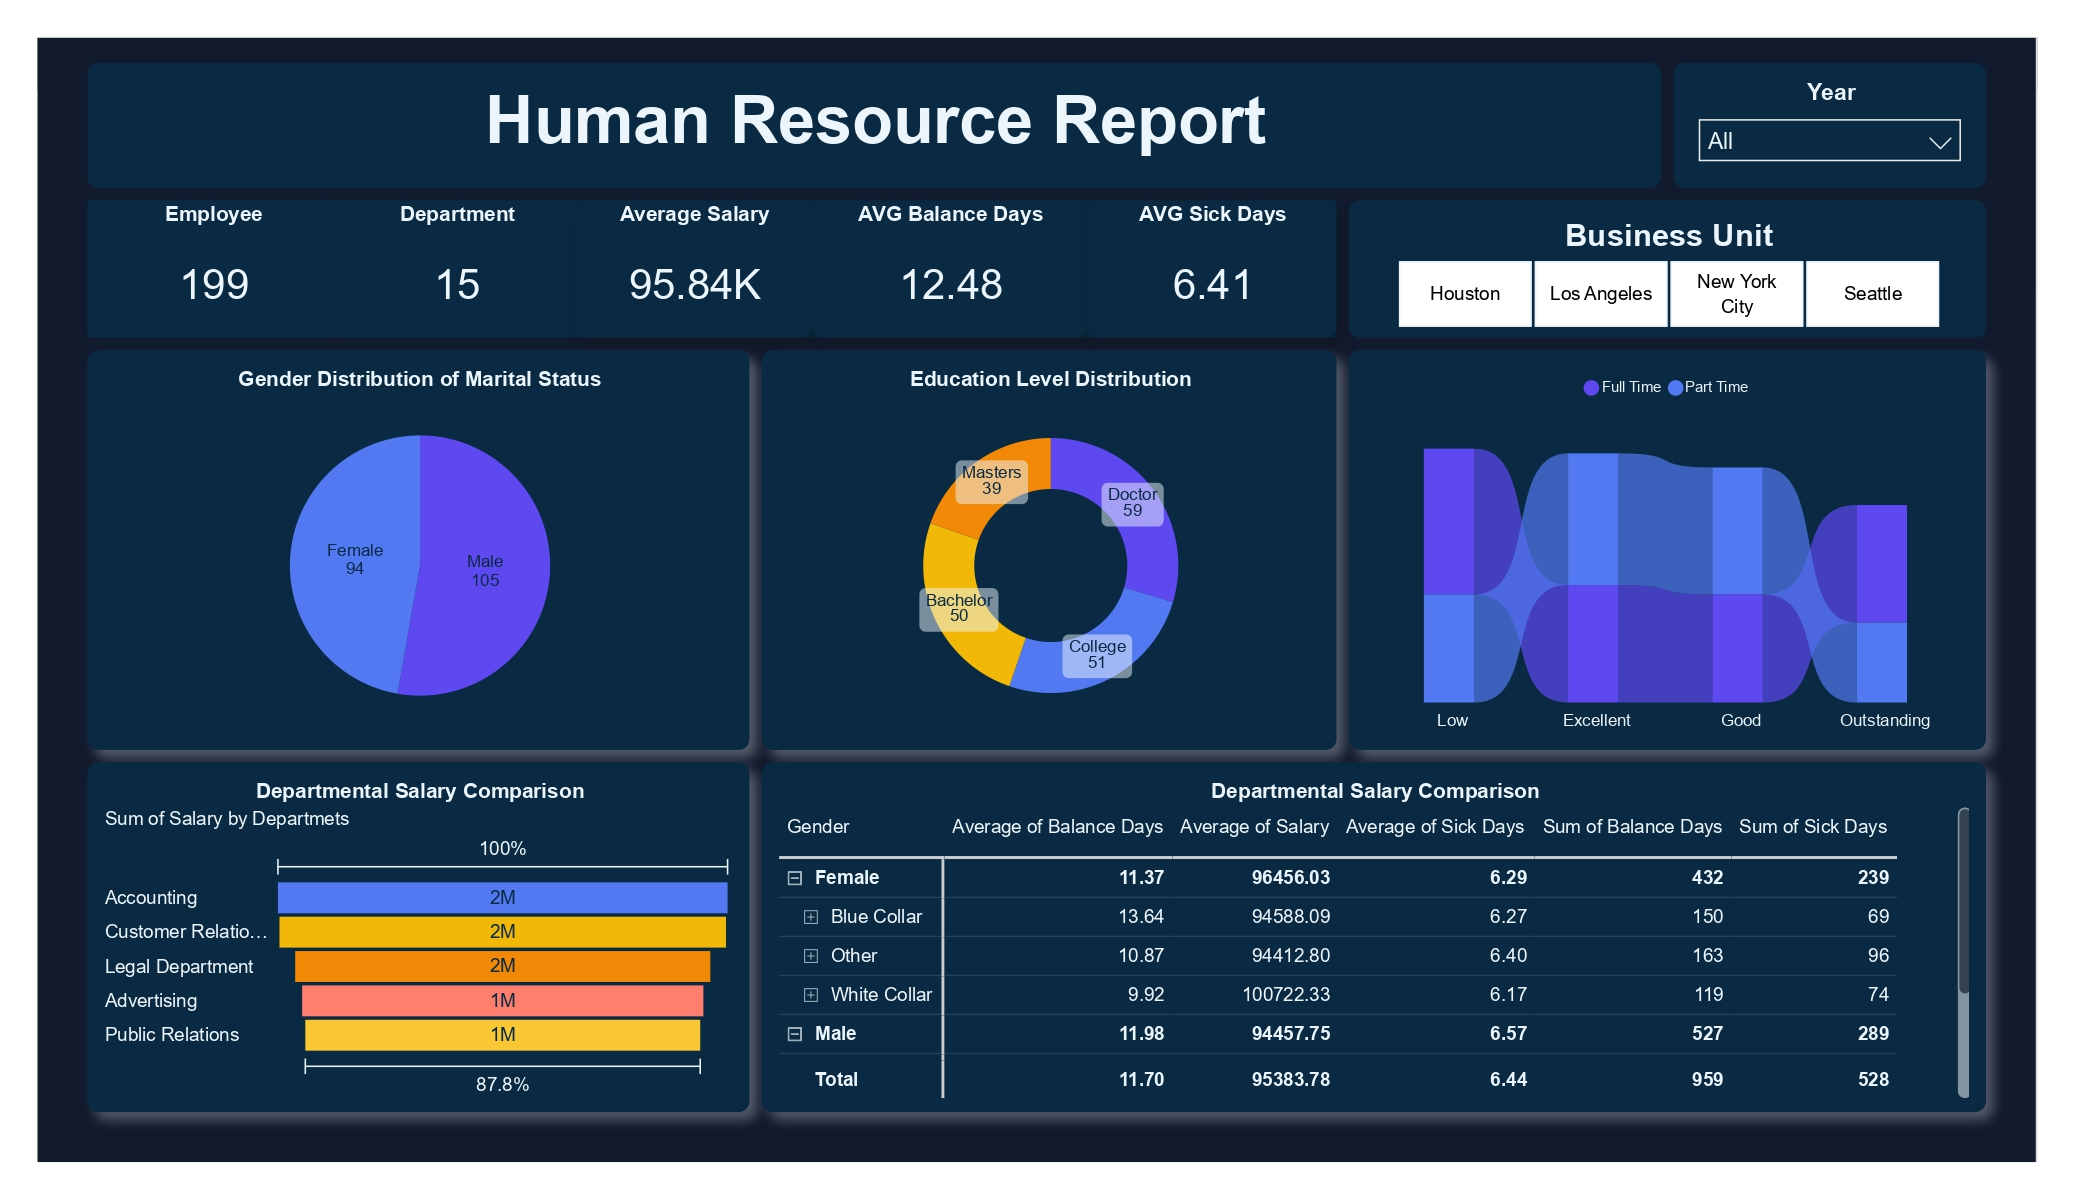

What the dashboard file says about the page in this screenshot:
{"tool":"powerbi","page":{"name":"HR Domain","canvas":[1280,720],"ordinal":0},"visuals":[{"type":"textbox","box":[32,16,1008,80],"z":0},{"type":"card","title":"Employee","fields":{"Values":["CountNonNull(Company_Details.Emp.Type)"]},"box":[32,104,160,88],"z":0,"group":"g1"},{"type":"slicer","title":"Year","fields":{"Values":["Company_Details.Gender"]},"box":[1048,16,200,80],"z":1000},{"type":"card","title":"Department","fields":{"Values":["Count(Company_Details.Departmets)"]},"box":[192,104,152,88],"z":1000,"group":"g1"},{"type":"group","id":"g1","title":"Group 1","box":[32,104,800,88],"z":2000},{"type":"card","title":"Average Salary","fields":{"Values":["Avg(Company_Details.Salary)"]},"box":[344,104,152,88],"z":2000,"group":"g1"},{"type":"card","title":"AVG Balance Days","fields":{"Values":["Avg(Company_Details.Balance Days)"]},"box":[496,104,176,88],"z":3000,"group":"g1"},{"type":"slicer","title":"Business Unit","fields":{"Values":["Company_Details.Business Unit"]},"box":[840,104,408,88],"z":3000},{"type":"card","title":"AVG Sick Days","fields":{"Values":["Avg(Company_Details.Sick Days)"]},"box":[672,104,160,88],"z":4000,"group":"g1"},{"type":"pieChart","title":"Gender Distribution of Marital Status ","fields":{"Category":["Company_Details.Gender"],"Y":["CountNonNull(Company_Details.Marital Status)"]},"box":[32,200,424,256],"z":4000},{"type":"donutChart","title":"Education Level Distribution","fields":{"Category":["Company_Details.Education"],"Y":["CountNonNull(Company_Details.EMP ID)"]},"box":[464,200,368,256],"z":5000},{"type":"ribbonChart","title":"Education Level Distribution","fields":{"Category":["Company_Details.Performance Rating"],"Y":["CountNonNull(Company_Details.Job Involvement)"],"Series":["Company_Details.Job Type"]},"box":[840,200,408,256],"z":6000},{"type":"funnel","title":"Departmental Salary Comparison","fields":{"Category":["Company_Details.Departmets"],"Y":["Sum(Company_Details.Salary)"]},"box":[32,464,424,224],"z":7000},{"type":"pivotTable","title":"Departmental Salary Comparison","fields":{"Rows":["Company_Details.Gender","Company_Details.Job Classification","Company_Details.WorkLife Balance"],"Values":["Avg(Company_Details.Balance Days)","Avg(Company_Details.Salary)","Avg(Company_Details.Sick Days)","Sum(Company_Details.Balance Days)1","Sum(Company_Details.Sick Days)1"]},"box":[464,464,784,224],"z":8000}]}

Visuals, with their boxes on the page's 1280x720 design canvas (x1, y1, x2, y2). These are canvas units, not pixel positions in the 2075x1200 screenshot, which may show the page scaled, cropped or inside an application window:
textbox: 32/16/1040/96
"Employee" card: 32/104/192/192
"Year" slicer: 1048/16/1248/96
"Department" card: 192/104/344/192
"Group 1" group: 32/104/832/192
"Average Salary" card: 344/104/496/192
"AVG Balance Days" card: 496/104/672/192
"Business Unit" slicer: 840/104/1248/192
"AVG Sick Days" card: 672/104/832/192
"Gender Distribution of Marital Status " pieChart: 32/200/456/456
"Education Level Distribution" donutChart: 464/200/832/456
"Education Level Distribution" ribbonChart: 840/200/1248/456
"Departmental Salary Comparison" funnel: 32/464/456/688
"Departmental Salary Comparison" pivotTable: 464/464/1248/688
